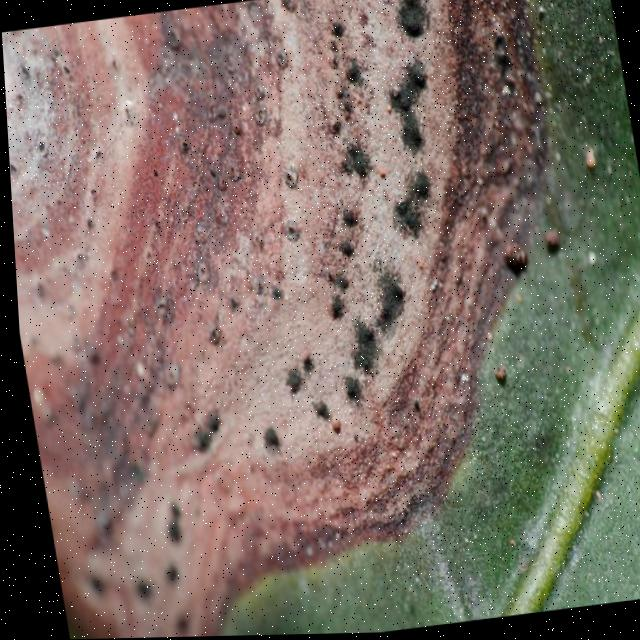Tea cloud leaf blight: (0, 0, 599, 558)
